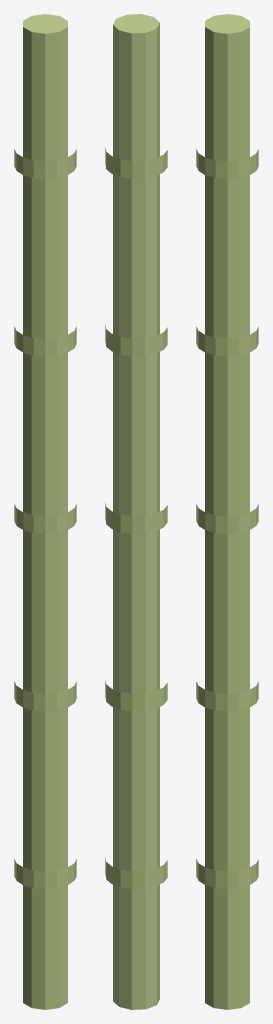
The model's file is weapon_bamboo_pole.glb.
3 views of the same model, side by side, from view 1: azimuth 90°, elevation 25°; view 2: azimuth 150°, elevation 25°; view 3: azimuth 270°, elevation 25° (orthographic).
Parts seen in each view (by area): view 1: WeaponBambooPole_Node; view 2: WeaponBambooPole_Node; view 3: WeaponBambooPole_Node.
Part boxes in pixels (x1=…): WeaponBambooPole_Node: x1=14, y1=14, x2=76, y2=1009; WeaponBambooPole_Node: x1=105, y1=14, x2=167, y2=1009; WeaponBambooPole_Node: x1=196, y1=14, x2=258, y2=1009.
Size of the model in its own units: 0.064 by 1.1 by 0.064.
